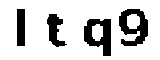9: (115, 7, 151, 49)
l: (7, 6, 31, 52)
q: (76, 15, 114, 60)
t: (42, 9, 71, 49)
